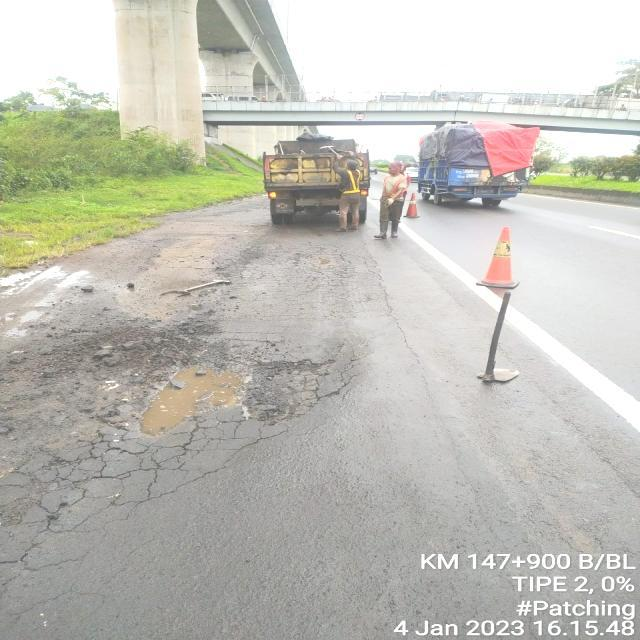Buraco: (134, 356, 340, 440), (317, 256, 332, 266)
